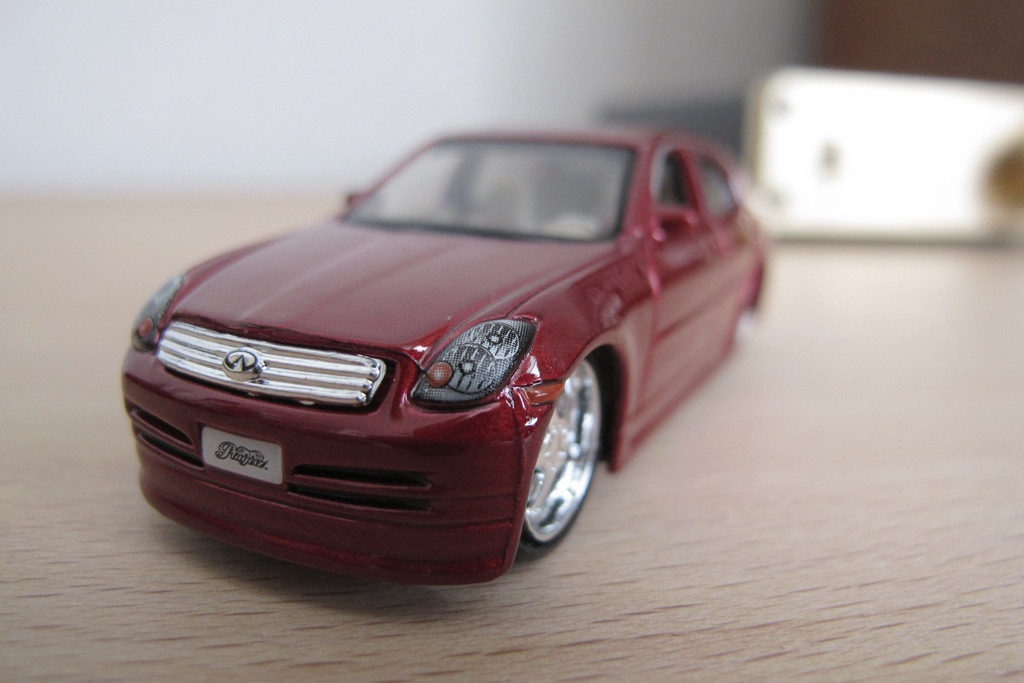Car: (120, 130, 775, 584)
